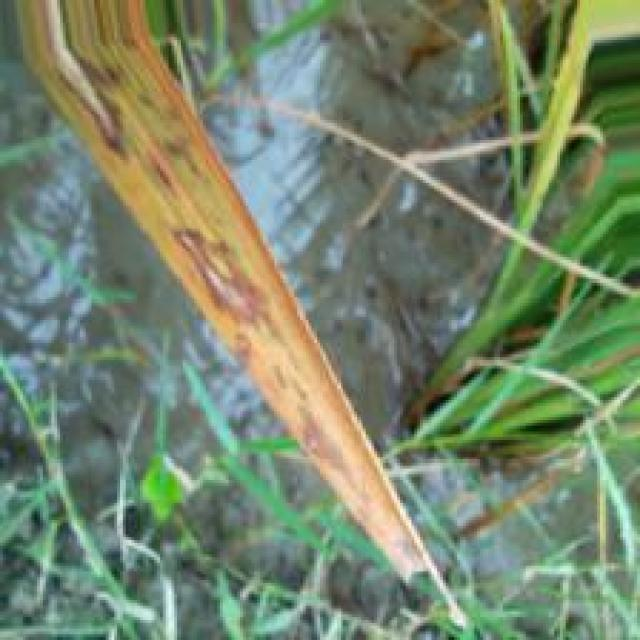Narrow_Brown_Leaf_Spot: (0, 0, 442, 593)
